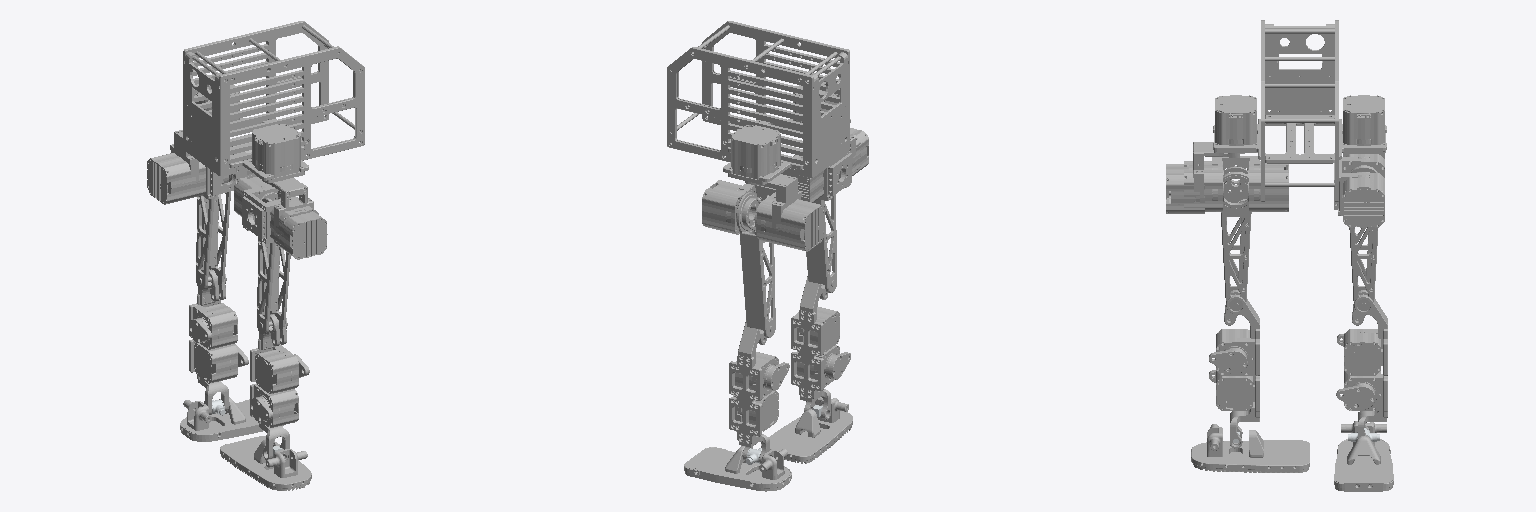
URDF robot description (pai_2_12_240723):
<?xml version="1.0" encoding="utf-8"?>
<!--
This URDF was automatically created by SolidWorks to URDF Exporter! Originally created by [author] ([email redacted])
Commit Version: 1.6.0-4-g7f85cfe  Build Version: 1.6.7995.38578
For more information, please see http://wiki.ros.org/sw_urdf_exporter
-->
<robot name="pai_2_12_240723">
	<link name="base_link">
		<inertial>
			<origin xyz="0.02264846 -0.00004298 0.03856462" rpy="0 0 0" />
			<mass value="1.767987723282303" />
			<inertia ixx="0.00715641" ixy="-0.00000351" ixz="-0.00040457" iyy="0.00754610" iyz="0.00000400" izz="0.00985603" />
		</inertial>
		<visual>
			<origin xyz="0 0 0" rpy="0 0 0" />
			<geometry>
				<mesh filename="../meshes/base_link.STL" />
			</geometry>
			<material name="">
				<color rgba="0.752941176470588 0.752941176470588 0.752941176470588 1" />
			</material>
		</visual>
		<collision>
			<origin xyz="0 0 0.03" rpy="0 0 0" />
			<geometry>
				<box size="0.2 0.08 0.08" />
			</geometry>
		</collision>
	</link>
	<link name="r_hip_yaw_link">
		<inertial>
			<origin xyz="-0.05317432 -0.00007017 -0.05024259" rpy="0 0 0" />
			<mass value="0.40825297" />
			<inertia ixx="0.00024215" ixy="-0.00000027" ixz="-0.00006446" iyy="0.00026252" iyz="0.00000037" izz="0.00016997" />
		</inertial>
		<visual>
			<origin xyz="0 0 0" rpy="0 0 0" />
			<geometry>
				<mesh filename="../meshes/r_hip_yaw_link.STL" />
			</geometry>
			<material name="">
				<color rgba="0.75294 0.75294 0.75294 1" />
			</material>
		</visual>
		<collision>
			<origin xyz="0 0 -0.01" rpy="0 0 0" />
			<geometry>
				<box size="0.01 0.01 0.01" />
			</geometry>
		</collision>
	</link>
	<joint name="r_hip_yaw_joint" type="revolute">
		<origin xyz="-0.003125 -0.075 -0.009" rpy="0 0 0" />
		<parent link="base_link" />
		<child link="r_hip_yaw_link" />
		<axis xyz="0 0 1" />
		<limit lower="-0.6" upper="0.6" effort="21" velocity="21" />
	</joint>
	<link name="r_hip_roll_link">
		<inertial>
			<origin xyz="-0.00165182 0.0 0.00009013" rpy="0 0 0" />
			<mass value="0.75405217" />
			<inertia ixx="0.00114977" ixy="0.0" ixz="0.00000182" iyy="0.00031770" iyz="0.00000238" izz="0.00117774" />
		</inertial>
		<visual>
			<origin xyz="0 0 0" rpy="0 0 0" />
			<geometry>
				<mesh filename="../meshes/r_hip_roll_link.STL" />
			</geometry>
			<material name="">
				<color rgba="0.752941176470588 0.752941176470588 0.752941176470588 1" />
			</material>
		</visual>
		<collision>
			<origin xyz="-0.03 0 0" rpy="0 0 0" />
			<geometry>
				<box size="0.01 0.01 0.01" />
			</geometry>
		</collision>
	</link>
	<joint name="r_hip_roll_joint" type="revolute">
		<origin xyz="0 0 -0.056" rpy="0 0 0" />
		<parent link="r_hip_yaw_link" />
		<child link="r_hip_roll_link" />
		<axis xyz="1 0 0" />
		<limit lower="-0.4" upper="0.22" effort="21" velocity="21" />
	</joint>
	<link name="r_thigh_link">
		<inertial>
			<origin xyz="0.00012218 -0.00135823 -0.06908333" rpy="0 0 0" />
			<mass value="0.21894101" />
			<inertia ixx="0.00076454" ixy="0.00000004" ixz="0.00000008" iyy="0.00077056" iyz="0.00002142" izz="0.00004054" />
		</inertial>
		<visual>
			<origin xyz="0 0 0" rpy="0 0 0" />
			<geometry>
				<mesh filename="../meshes/l_thigh_link.STL" />
			</geometry>
			<material name="">
				<color rgba="0.752941176470588 0.752941176470588 0.752941176470588 1" />
			</material>
		</visual>
		<collision>
			<origin xyz="0 0 -0.075" rpy="0 -0.05009 0" />
			<geometry>
				<box size="0.02 0.02 0.12" />
			</geometry>
		</collision>
	</link>
	<joint name="r_thigh_joint" type="revolute">
		<origin xyz="0 0 0" rpy="0 0.05009 0" />
		<parent link="r_hip_roll_link" />
		<child link="r_thigh_link" />
		<axis xyz="0 1 0" />
		<limit lower="-2.25" upper="0.4" effort="21" velocity="21" />
	</joint>
	<link name="r_calf_link">
		<inertial>
			<origin xyz="-0.00242534 0.00004312 -0.09732545" rpy="0 0 0" />
			<mass value="0.94531081" />
			<inertia ixx="0.00125228" ixy="0.00000083" ixz="-0.00009452" iyy="0.00124644" iyz="-0.00006385" izz="0.00023470" />
		</inertial>
		<visual>
			<origin xyz="0 0 0" rpy="0 0 0" />
			<geometry>
				<mesh filename="../meshes/r_calf_link.STL" />
			</geometry>
			<material name="">
				<color rgba="0.752941176470588 0.752941176470588 0.752941176470588 1" />
			</material>
		</visual>
		<collision>
			<origin xyz="0 0 -0.075" rpy="0 0 0" />
			<geometry>
				<box size="0.03 0.035 0.12" />
			</geometry>
		</collision>
	</link>
	<joint name="r_calf_joint" type="revolute">
		<origin xyz="0.0075 0 -0.149812382665786" rpy="0 -0.05009 0" />
		<parent link="r_thigh_link" />
		<child link="r_calf_link" />
		<axis xyz="0 1 0" />
		<limit lower="0.0" upper="2.37" effort="21" velocity="21" />
	</joint>
	<link name="r_ankle_pitch_link">
		<inertial>
			<origin xyz="-1.6509E-07 -3.5454E-07 1.0424E-08" rpy="0 0 0" />
			<mass value="0.01180204" />
			<inertia ixx="0.00000047" ixy="8.2515E-14" ixz="-8.8688E-13" iyy="0.00000111" iyz="1.3362E-12" izz="0.00000121" />
		</inertial>
		<visual>
			<origin xyz="0 0 0" rpy="0 0 0" />
			<geometry>
				<box size="0.01 0.01 0.01" />
			</geometry>
			<material name="">
				<color rgba="0.89804 0.91765 0.92941 1" />
			</material>
		</visual>
		<collision>
			<origin xyz="0 0 0" rpy="0 0 0" />
			<geometry>
				<box size="0.01 0.01 0.01" />
			</geometry>
		</collision>
	</link>
	<joint name="r_ankle_pitch_joint" type="revolute">
		<origin xyz="0 0 -0.17495" rpy="0 0 0" />
		<parent link="r_calf_link" />
		<child link="r_ankle_pitch_link" />
		<axis xyz="0 1 0" />
		<limit lower="-0.83" upper="0.59" effort="21" velocity="21" />
	</joint>
	<link name="r_ankle_roll_link">
		<inertial>
			<origin xyz="0.01979902 0.00000141 -0.02023932" rpy="0 0 0" />
			<mass value="0.18592619" />
			<inertia ixx="0.00006786" ixy="0.00000000" ixz="0.00001824" iyy="0.00024654" iyz="0.00000000" izz="0.00028950" />
		</inertial>
		<visual>
			<origin xyz="0 0 0" rpy="0 0 0" />
			<geometry>
				<mesh filename="../meshes/r_ankle_roll_link.STL" />
			</geometry>
			<material name="">
				<color rgba="0.752941176470588 0.752941176470588 0.752941176470588 1" />
			</material>
		</visual>
		<collision>
			<origin xyz="0 0 0" rpy="0 0 0" />
			<geometry>
				<mesh filename="../meshes/r_ankle_roll_link.STL" />
			</geometry>
		</collision>
	</link>
	<joint name="r_ankle_roll_joint" type="revolute">
		<origin xyz="0 0 0" rpy="0 0 0" />
		<parent link="r_ankle_pitch_link" />
		<child link="r_ankle_roll_link" />
		<axis xyz="1 0 0" />
		<limit lower="-0.4" upper="0.4" effort="21" velocity="21" />
	</joint>
	<link name="l_hip_yaw_link">
		<inertial>
			<origin xyz="-0.05317432 -0.00007017 -0.05024259" rpy="0 0 0" />
			<mass value="0.40825297" />
			<inertia ixx="0.00024215" ixy="-0.00000027" ixz="-0.00006446" iyy="0.00026252" iyz="0.00000037" izz="0.00016997" />
		</inertial>
		<visual>
			<origin xyz="0 0 0" rpy="0 0 0" />
			<geometry>
				<mesh filename="../meshes/l_hip_yaw_link.STL" />
			</geometry>
			<material name="">
				<color rgba="0.75294 0.75294 0.75294 1" />
			</material>
		</visual>
		<collision>
			<origin xyz="0 0 -0.01" rpy="0 0 0" />
			<geometry>
				<box size="0.01 0.01 0.01" />
			</geometry>
		</collision>
	</link>
	<joint name="l_hip_yaw_joint" type="revolute">
		<origin xyz="-0.003125 0.075 -0.009" rpy="0 0 0" />
		<parent link="base_link" />
		<child link="l_hip_yaw_link" />
		<axis xyz="0 0 1" />
		<limit lower="-0.6" upper="0.6" effort="21" velocity="21" />
	</joint>
	<link name="l_hip_roll_link">
		<inertial>
			<origin xyz="-0.00165182 0.0 0.00009013" rpy="0 0 0" />
			<mass value="0.75405217" />
			<inertia ixx="0.00114977" ixy="0.0" ixz="0.00000182" iyy="0.00031770" iyz="0.00000238" izz="0.00117774" />
		</inertial>
		<visual>
			<origin xyz="0 0 0" rpy="0 0 0" />
			<geometry>
				<mesh filename="../meshes/l_hip_roll_link.STL" />
			</geometry>
			<material name="">
				<color rgba="0.752941176470588 0.752941176470588 0.752941176470588 1" />
			</material>
		</visual>
		<collision>
			<origin xyz="-0.03 0 0" rpy="0 0 0" />
			<geometry>
				<box size="0.01 0.01 0.01" />
			</geometry>
		</collision>
	</link>
	<joint name="l_hip_roll_joint" type="revolute">
		<origin xyz="0 0 -0.056" rpy="0 0 0" />
		<parent link="l_hip_yaw_link" />
		<child link="l_hip_roll_link" />
		<axis xyz="1 0 0" />
		<limit lower="-0.22" upper="0.4" effort="21" velocity="21" />
	</joint>
	<link name="l_thigh_link">
		<inertial>
			<origin xyz="0.00012218 -0.00135823 -0.06908333" rpy="0 0 0" />
			<mass value="0.21894101" />
			<inertia ixx="0.00076454" ixy="0.00000004" ixz="0.00000008" iyy="0.00077056" iyz="0.00002142" izz="0.00004054" />
		</inertial>
		<visual>
			<origin xyz="0 0 0" rpy="0 0 0" />
			<geometry>
				<mesh filename="../meshes/l_thigh_link.STL" />
			</geometry>
			<material name="">
				<color rgba="0.752941176470588 0.752941176470588 0.752941176470588 1" />
			</material>
		</visual>
		<collision>
			<origin xyz="0 0 -0.075" rpy="0 -0.05009 0" />
			<geometry>
				<box size="0.02 0.02 0.12" />
			</geometry>
		</collision>
	</link>
	<joint name="l_thigh_joint" type="revolute">
		<origin xyz="0 0 0" rpy="0 0.05009 0" />
		<parent link="l_hip_roll_link" />
		<child link="l_thigh_link" />
		<axis xyz="0 1 0" />
		<limit lower="-2.25" upper="0.4" effort="21" velocity="21" />
	</joint>
	<link name="l_calf_link">
		<inertial>
			<origin xyz="-0.00242534 0.00004312 -0.09732545" rpy="0 0 0" />
			<mass value="0.94531081" />
			<inertia ixx="0.00125228" ixy="0.00000083" ixz="-0.00009452" iyy="0.00124644" iyz="-0.00006385" izz="0.00023470" />
		</inertial>
		<visual>
			<origin xyz="0 0 0" rpy="0 0 0" />
			<geometry>
				<mesh filename="../meshes/l_calf_link.STL" />
			</geometry>
			<material name="">
				<color rgba="0.75294 0.75294 0.75294 1" />
			</material>
		</visual>
		<collision>
			<origin xyz="0 0 -0.075" rpy="0 0 0" />
			<geometry>
				<box size="0.03 0.035 0.12" />
			</geometry>
		</collision>
	</link>
	<joint name="l_calf_joint" type="revolute">
		<origin xyz="0.0075 0 -0.149812382665786" rpy="0 -0.05009 0" />
		<parent link="l_thigh_link" />
		<child link="l_calf_link" />
		<axis xyz="0 1 0" />
		<limit lower="0.0" upper="2.37" effort="21" velocity="21" />
	</joint>
	<link name="l_ankle_pitch_link">
		<inertial>
			<origin xyz="-1.6509E-07 -3.5454E-07 1.0424E-08" rpy="0 0 0" />
			<mass value="0.01180204" />
			<inertia ixx="0.00000047" ixy="8.2515E-14" ixz="-8.8688E-13" iyy="0.00000111" iyz="1.3362E-12" izz="0.00000121" />
		</inertial>
		<visual>
			<origin xyz="0 0 0" rpy="0 0 0" />
			<geometry>
				<mesh filename="../meshes/l_ankle_pitch_link.STL" />
			</geometry>
			<material name="">
				<color rgba="0.898039215686275 0.917647058823529 0.929411764705882 1" />
			</material>
		</visual>
		<collision>
			<origin xyz="0 0 0" rpy="0 0 0" />
			<geometry>
				<box size="0.01 0.01 0.01" />
			</geometry>
		</collision>
	</link>
	<joint name="l_ankle_pitch_joint" type="revolute">
		<origin xyz="0 0 -0.17495" rpy="0 0 0" />
		<parent link="l_calf_link" />
		<child link="l_ankle_pitch_link" />
		<axis xyz="0 1 0" />
		<limit lower="-0.83" upper="0.59" effort="21" velocity="21" />
	</joint>
	<link name="l_ankle_roll_link">
		<inertial>
			<origin xyz="0.01979902 0.00000141 -0.02023932" rpy="0 0 0" />
			<mass value="0.18592619" />
			<inertia ixx="0.00006786" ixy="0.00000000" ixz="0.00001824" iyy="0.00024654" iyz="0.00000000" izz="0.00028950" />
		</inertial>
		<visual>
			<origin xyz="0 0 0" rpy="0 0 0" />
			<geometry>
				<mesh filename="../meshes/l_ankle_roll_link.STL" />
			</geometry>
			<material name="">
				<color rgba="0.752941176470588 0.752941176470588 0.752941176470588 1" />
			</material>
		</visual>
		<collision>
			<origin xyz="0 0 0" rpy="0 0 0" />
			<geometry>
				<mesh filename="../meshes/l_ankle_roll_link.STL" />
			</geometry>
		</collision>
	</link>
	<joint name="l_ankle_roll_joint" type="revolute">
		<origin xyz="0 0 0" rpy="0 0 0" />
		<parent link="l_ankle_pitch_link" />
		<child link="l_ankle_roll_link" />
		<axis xyz="1 0 0.0" />
		<limit lower="-0.4" upper="0.4" effort="21" velocity="21" />
	</joint>
</robot>

--- What the picture shows (computed from the rendered views, not written in the file) ---
Views: 3 orthographic renders of the robot side by side, from view 1: azimuth 30°, elevation 25°; view 2: azimuth 150°, elevation 25°; view 3: azimuth 270°, elevation 25°.
Robot: pai_2_12_240723 — 13 links, 12 joints (12 revolute); root link base_link; default pose: all joints at 0.
Visible links, largest first — view 1: base_link, r_calf_link, l_calf_link, r_ankle_roll_link, r_hip_yaw_link, r_hip_roll_link, l_thigh_link, r_thigh_link, l_ankle_roll_link, l_hip_yaw_link, l_hip_roll_link; view 2: base_link, r_calf_link, l_calf_link, l_hip_roll_link, l_ankle_roll_link, l_thigh_link, r_ankle_roll_link, l_hip_yaw_link, r_hip_roll_link, r_thigh_link, r_hip_yaw_link; view 3: base_link, r_calf_link, l_calf_link, r_ankle_roll_link, r_hip_roll_link, l_ankle_roll_link, l_hip_roll_link, r_thigh_link, r_hip_yaw_link, l_thigh_link.
Link boxes in pixels (x1=…): base_link: x1=183, y1=21, x2=364, y2=182; r_calf_link: x1=250, y1=312, x2=309, y2=459; l_calf_link: x1=189, y1=267, x2=248, y2=414; r_ankle_roll_link: x1=220, y1=436, x2=311, y2=490; r_hip_yaw_link: x1=262, y1=178, x2=327, y2=259; r_hip_roll_link: x1=234, y1=175, x2=318, y2=246; l_thigh_link: x1=196, y1=174, x2=233, y2=290; r_thigh_link: x1=257, y1=191, x2=290, y2=334; l_ankle_roll_link: x1=180, y1=397, x2=283, y2=441; l_hip_yaw_link: x1=147, y1=130, x2=199, y2=204; l_hip_roll_link: x1=166, y1=134, x2=254, y2=200; base_link: x1=667, y1=21, x2=850, y2=184; r_calf_link: x1=791, y1=276, x2=850, y2=419; l_calf_link: x1=729, y1=322, x2=789, y2=463; l_hip_roll_link: x1=702, y1=180, x2=805, y2=246; l_ankle_roll_link: x1=684, y1=446, x2=791, y2=491; l_thigh_link: x1=736, y1=192, x2=775, y2=337; r_ankle_roll_link: x1=761, y1=397, x2=852, y2=463; l_hip_yaw_link: x1=745, y1=174, x2=824, y2=251; r_hip_roll_link: x1=781, y1=134, x2=860, y2=202; r_thigh_link: x1=806, y1=194, x2=836, y2=292; r_hip_yaw_link: x1=850, y1=128, x2=868, y2=175; base_link: x1=1213, y1=20, x2=1386, y2=201; r_calf_link: x1=1209, y1=290, x2=1259, y2=448; l_calf_link: x1=1336, y1=290, x2=1387, y2=437; r_ankle_roll_link: x1=1191, y1=424, x2=1309, y2=472; r_hip_roll_link: x1=1184, y1=156, x2=1288, y2=211; l_ankle_roll_link: x1=1334, y1=421, x2=1393, y2=491; l_hip_roll_link: x1=1334, y1=154, x2=1384, y2=227; r_thigh_link: x1=1221, y1=167, x2=1251, y2=310; r_hip_yaw_link: x1=1166, y1=142, x2=1244, y2=213; l_thigh_link: x1=1349, y1=167, x2=1377, y2=310.
Size in the robot's own frame: 0.225 by 0.268 by 0.5419 metres.
Meshes: 11 distinct files referenced, 12 mesh visuals loaded (11 binary STL).